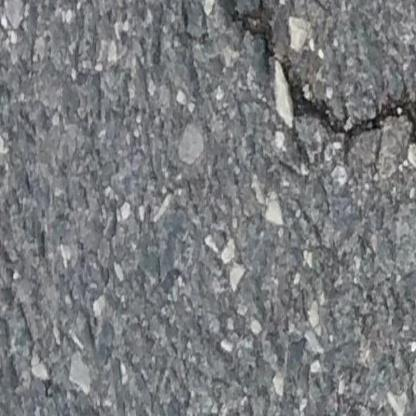Cracks: (214, 0, 416, 171)
